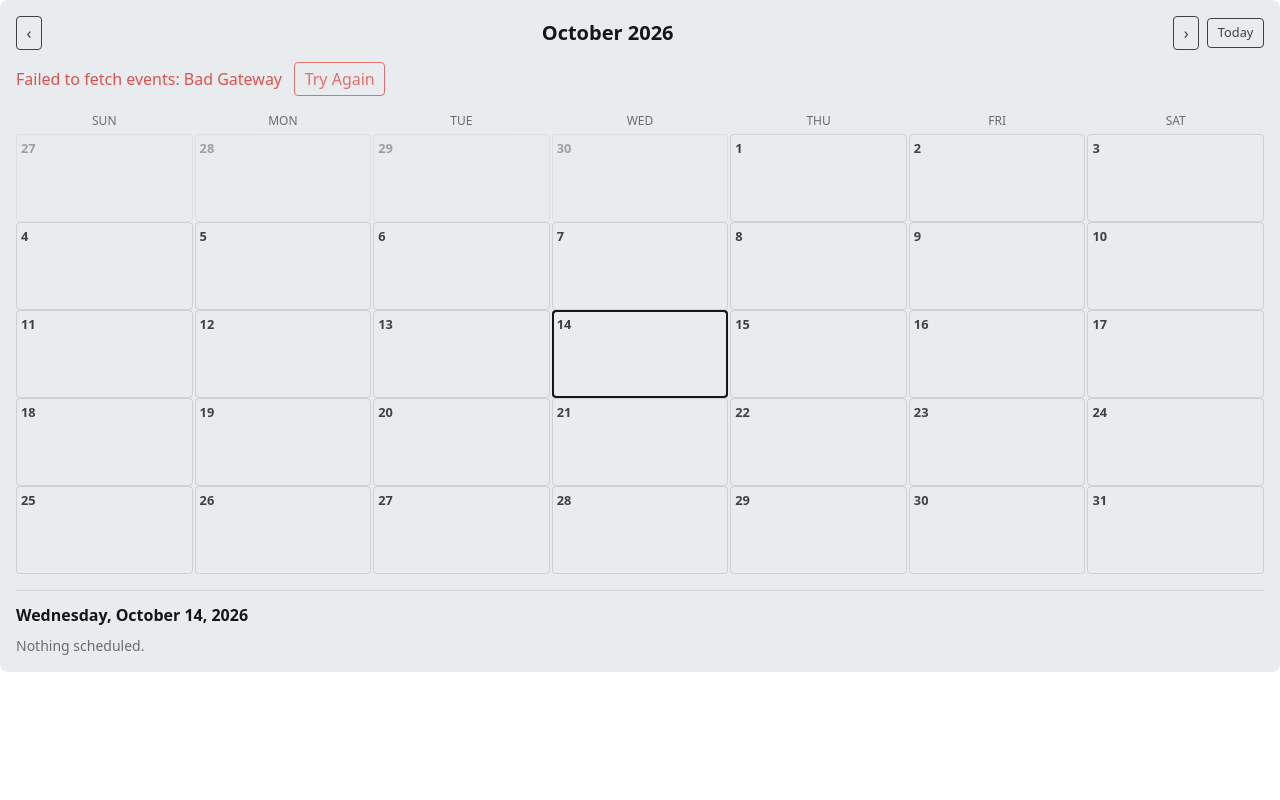
Test: failure › clears the error when a retry succeeds
The image size is (1280, 800).
Expected: the message "Failed to fetch events: Bad Gateway Try Again" is shown, [16,62,385,96]
Click the button with class "retry-btn". click: click(340, 79)
box: [294,62,385,96]
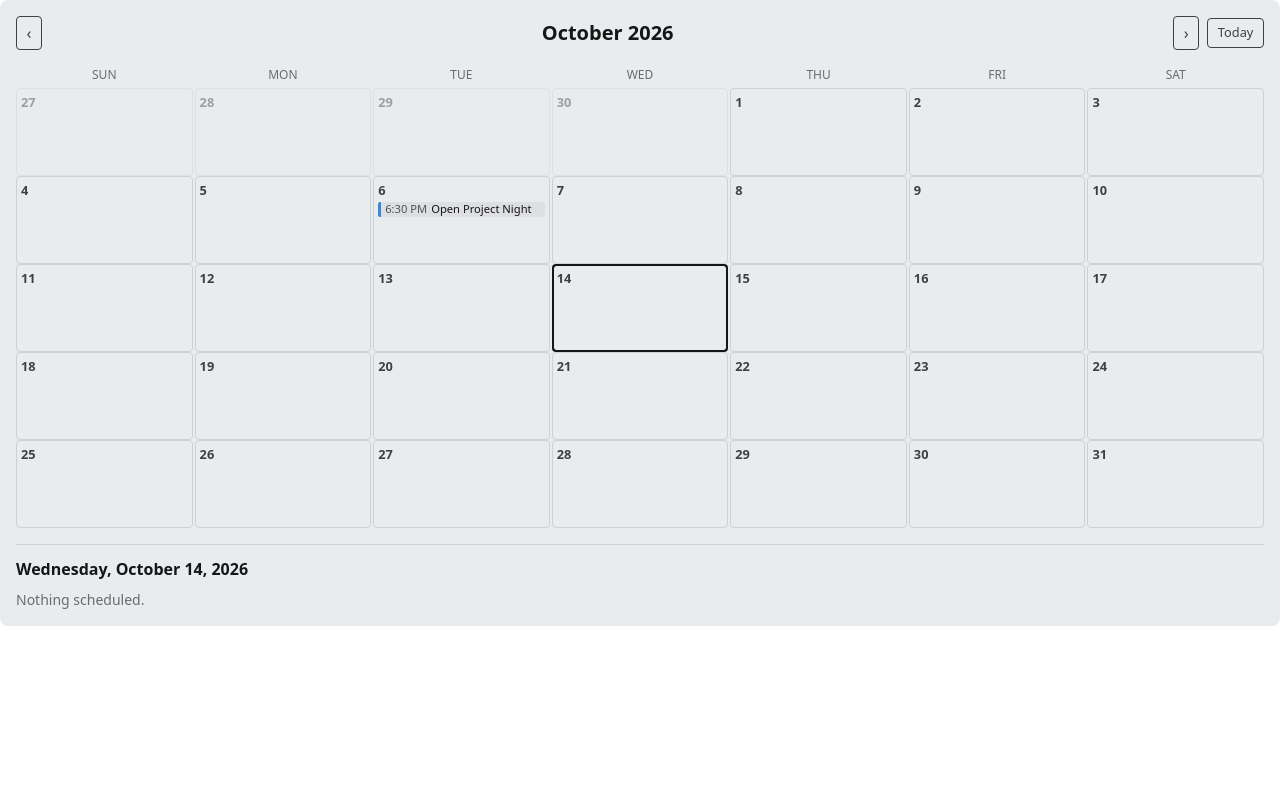
Expected: the button "6 6:30 PM Open Project Night" is shown, [373,176,550,264]
